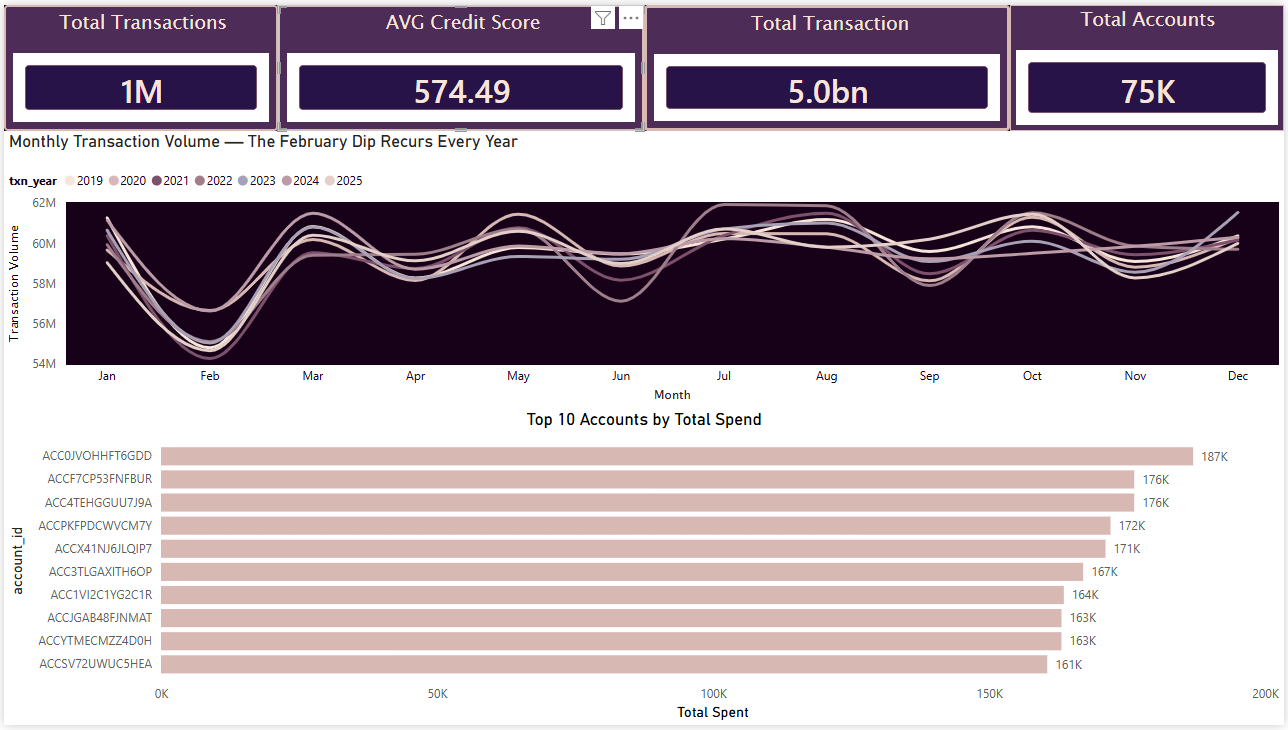

What the dashboard file says about the page in this screenshot:
{"tool":"powerbi","page":{"name":"Page 1","canvas":[1280,720],"ordinal":0},"visuals":[{"type":"cardVisual","title":"Total Transactions","fields":{"Data":["Sum(vw_monthly_trend.num_transactions)"]},"box":[0,0,274,126],"z":0},{"type":"cardVisual","title":"Total Transaction ","fields":{"Data":["Sum(vw_monthly_trend.monthly_volume)"]},"box":[640,0,366,126],"z":1000},{"type":"cardVisual","title":"Total Accounts","fields":{"Data":["Sum(vw_account_summary.num_accounts)"]},"box":[1006,0,274,126],"z":2000},{"type":"cardVisual","title":"AVG Credit Score","fields":{"Data":["Avg(vw_avg_credit_score.avg_score)"]},"box":[274,0,366,126],"z":3000},{"type":"lineChart","title":"Monthly Transaction Volume — The February Dip Recurs Every Year","fields":{"Y":["Sum(vw_monthly_trend.monthly_volume)"],"Series":["vw_monthly_trend.txn_year"],"Category":["vw_monthly_trend.Month Name","vw_monthly_trend.txn_month"]},"box":[0,126,1280,278],"z":4000},{"type":"barChart","title":"Top 10 Accounts by Total Spend","fields":{"Category":["vw_top_accounts.account_id"],"Y":["Sum(vw_top_accounts.total_spent)"]},"box":[0,404,1280,316],"z":5000}]}

Visuals, with their boxes in screenshot pixels (x1, y1, x2, y2), scaled from the page's 1280x720 canvas onto the 1288x730 screenshot:
"Total Transactions" cardVisual: (x1=0, y1=0, x2=276, y2=128)
"Total Transaction " cardVisual: (x1=644, y1=0, x2=1012, y2=128)
"Total Accounts" cardVisual: (x1=1012, y1=0, x2=1287, y2=128)
"AVG Credit Score" cardVisual: (x1=276, y1=0, x2=644, y2=128)
"Monthly Transaction Volume — The February Dip Recurs Every Year" lineChart: (x1=0, y1=128, x2=1287, y2=410)
"Top 10 Accounts by Total Spend" barChart: (x1=0, y1=410, x2=1287, y2=729)
